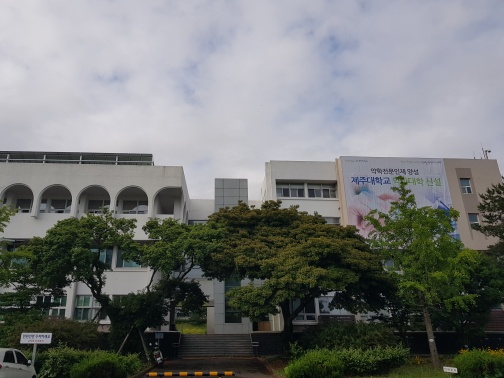Main Building of University: (10, 141, 494, 345), (210, 168, 258, 336), (31, 173, 150, 224)
